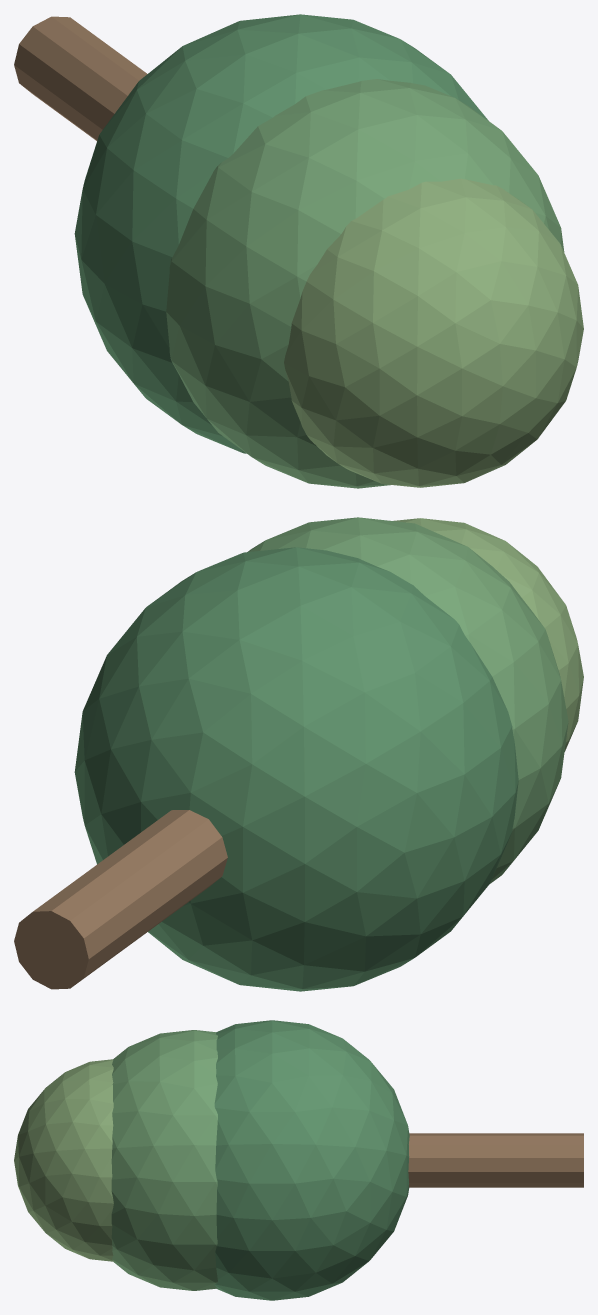
The model's file is tropical_broadleaf_tree.glb.
The picture shows the model from 3 angles, top to bottom: view 1: azimuth 30°, elevation 25°; view 2: azimuth 150°, elevation 25°; view 3: azimuth 270°, elevation 25°; orthographic projection. The views are drawn at different scales.
Parts seen in each view (by area): view 1: canopy2, canopy1, canopy0, trunk; view 2: canopy0, canopy1, trunk, canopy2; view 3: canopy0, canopy1, canopy2, trunk.
Part boxes in pixels (<box>): canopy2: <box>284,178,583,487</box>; canopy1: <box>166,79,564,488</box>; canopy0: <box>74,14,488,453</box>; trunk: <box>14,16,147,140</box>; canopy0: <box>74,547,518,991</box>; canopy1: <box>247,517,568,883</box>; trunk: <box>14,810,227,989</box>; canopy2: <box>394,518,583,751</box>; canopy0: <box>214,1020,409,1300</box>; canopy1: <box>111,1030,217,1290</box>; canopy2: <box>14,1059,113,1261</box>; trunk: <box>408,1133,583,1187</box>.
Bounding box in the file's own units: 2.9 × 2.9 × 5.85.
